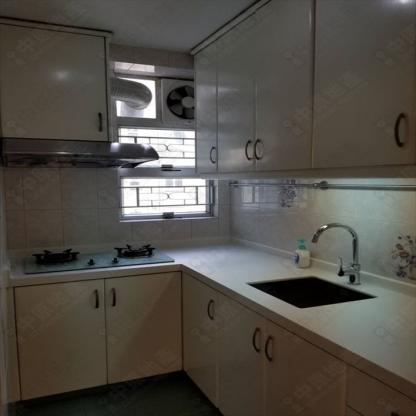Cupboard: (7, 269, 414, 415), (193, 34, 414, 178), (1, 26, 115, 137)
Exhaust Fan: (157, 76, 195, 126)
Exhaust Hood: (0, 137, 160, 168)
Faucet: (312, 220, 366, 282)
Sink: (244, 274, 382, 308)
Stove: (20, 241, 173, 273)
